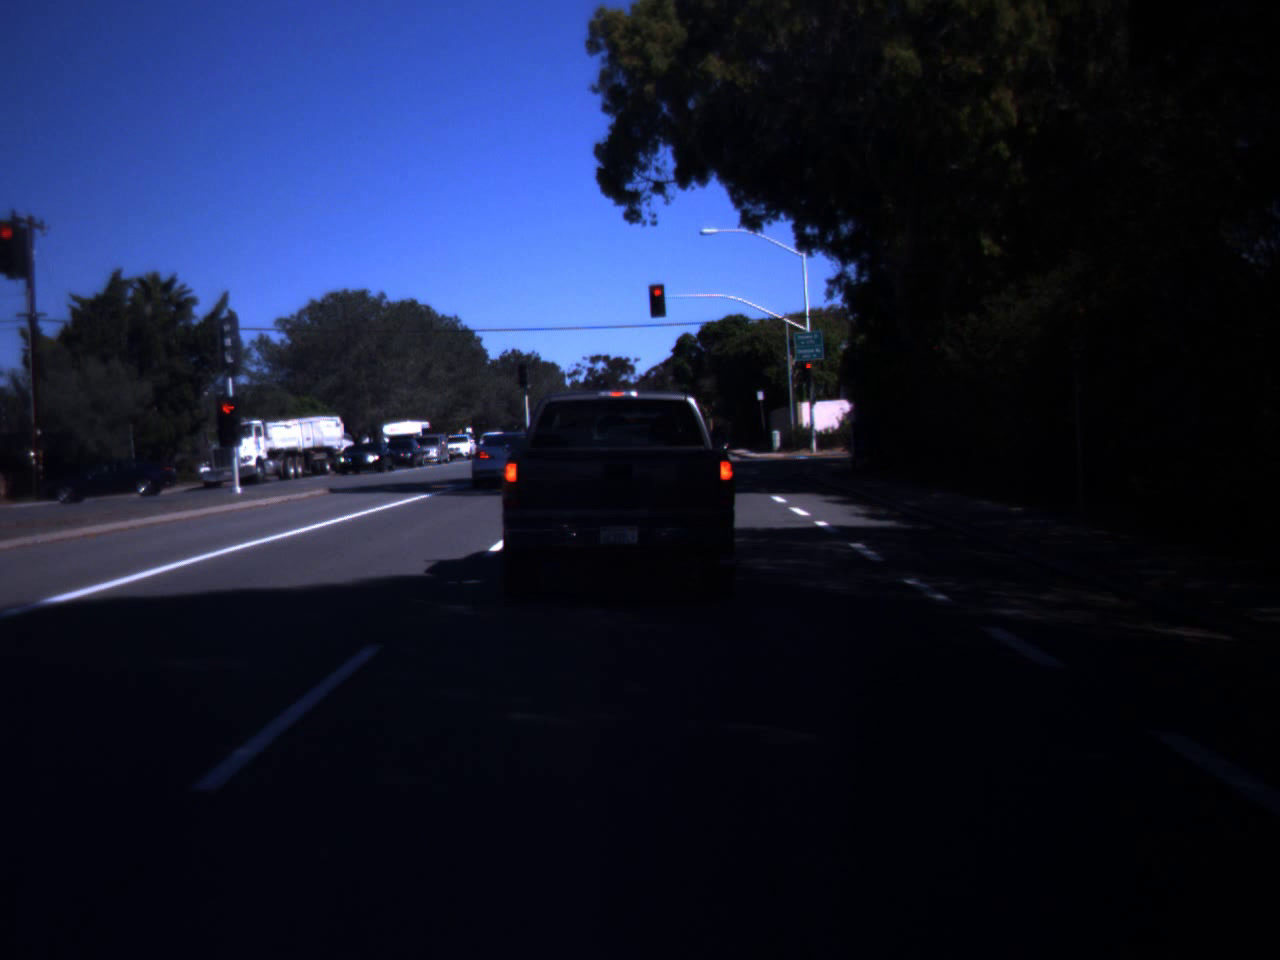stop: (0, 223, 22, 268), (214, 403, 244, 430), (652, 288, 664, 306), (802, 362, 814, 380)
